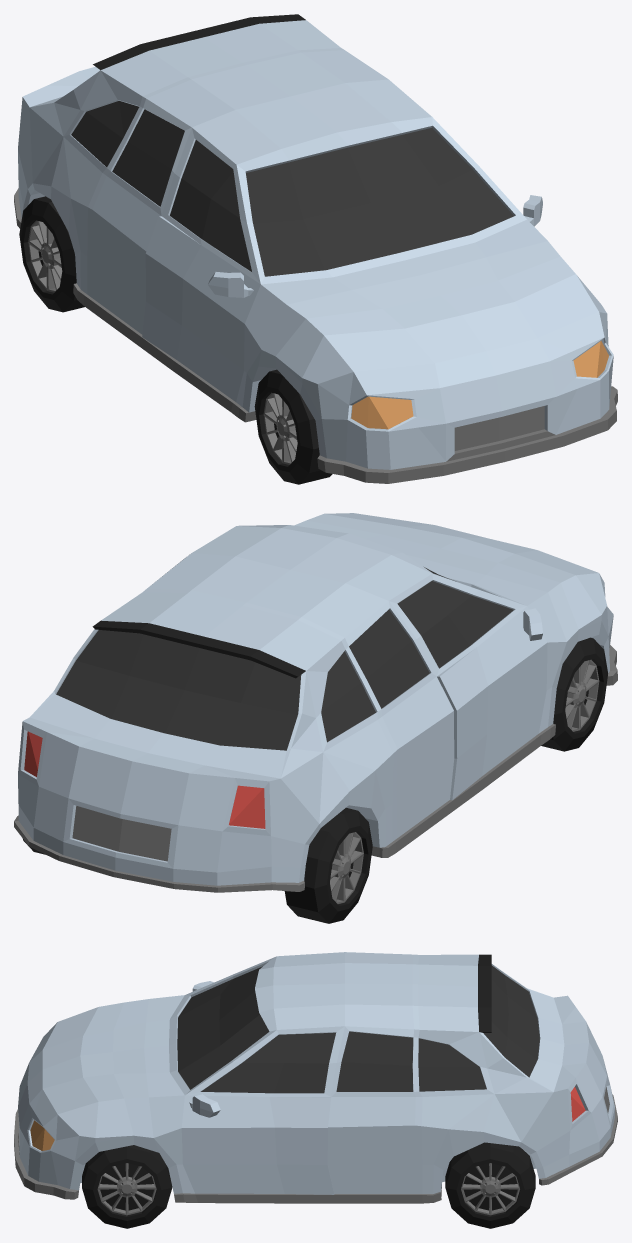
File: NormalCar2_Car.fbx
3 renders of one model, top to bottom at view 1: azimuth 30°, elevation 25°; view 2: azimuth 150°, elevation 25°; view 3: azimuth 270°, elevation 25°, orthographic. The views are drawn at different scales.
Visible parts, largest first — view 1: NormalCar2, NormalCar2_FrontRightWheel, NormalCar2_BackRightWheel; view 2: NormalCar2, NormalCar2_BackRightWheel, NormalCar2_FrontRightWheel; view 3: NormalCar2, NormalCar2_FrontLeftWheel.001, NormalCar2_BackLeftWheel.
Boxes of the visible parts, x1,y1,x2,y2 form: NormalCar2: (14,14,617,483); NormalCar2_FrontRightWheel: (254,369,332,484); NormalCar2_BackRightWheel: (19,196,84,312); NormalCar2: (14,513,617,892); NormalCar2_BackRightWheel: (284,807,372,923); NormalCar2_FrontRightWheel: (541,637,607,751); NormalCar2: (14,952,617,1203); NormalCar2_FrontLeftWheel.001: (445,1142,535,1228); NormalCar2_BackLeftWheel: (82,1145,172,1228).
Bounding box in the file's own units: 164 × 115 × 331.
